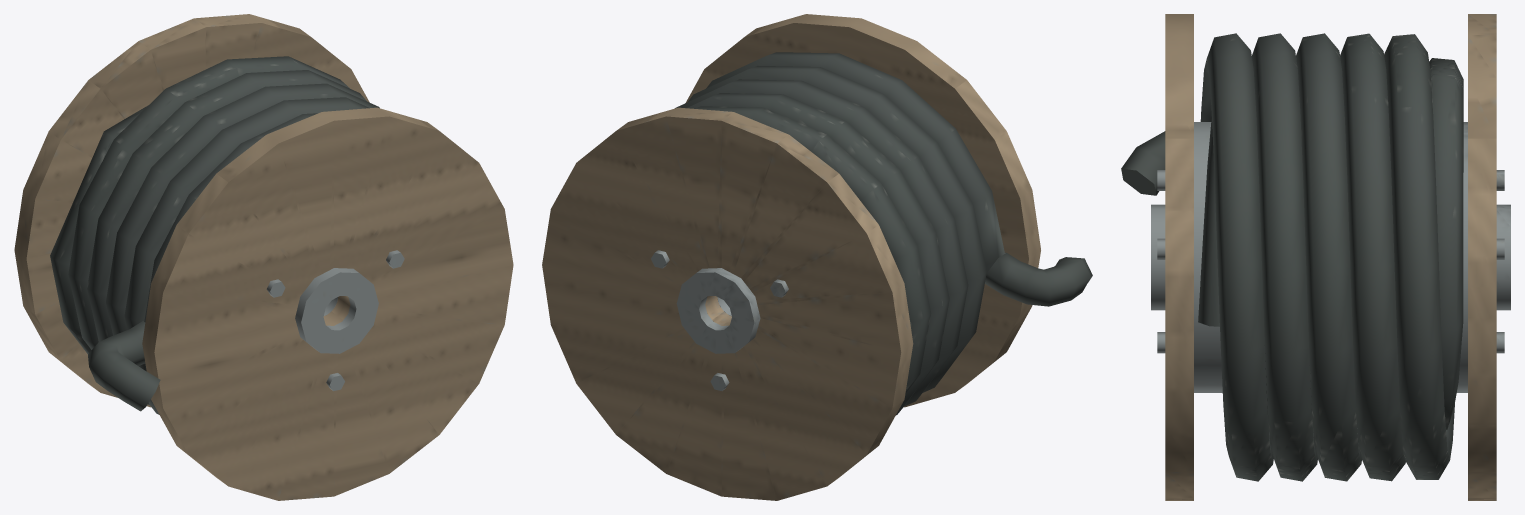
File: cable_reel_wood.glb
3 renders of one model, left to right at view 1: azimuth 30°, elevation 25°; view 2: azimuth 150°, elevation 25°; view 3: azimuth 270°, elevation 25°, orthographic. The views are drawn at different scales.
Parts seen in each view (by area): view 1: CableReelWood; view 2: CableReelWood; view 3: CableReelWood.
Boxes of the visible parts, x1=… form: CableReelWood: x1=14, y1=14, x2=513, y2=500; CableReelWood: x1=542, y1=14, x2=1092, y2=500; CableReelWood: x1=1121, y1=14, x2=1510, y2=500.
Size of what is drawn, in the model's own units: 1.37 by 1.2 by 0.9532.
Materials: 1 (1 with a texture image).
